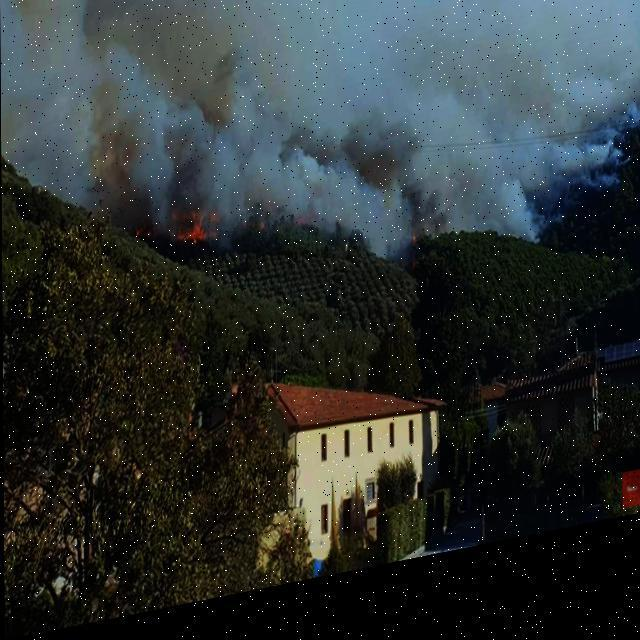Fire: (165, 208, 218, 258)
